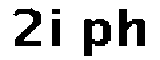2: (11, 6, 44, 53)
h: (116, 4, 147, 51)
i: (50, 5, 63, 53)
p: (79, 15, 113, 60)
